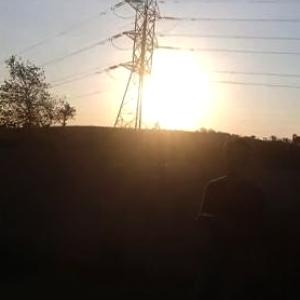follow: (189, 134, 269, 299)
